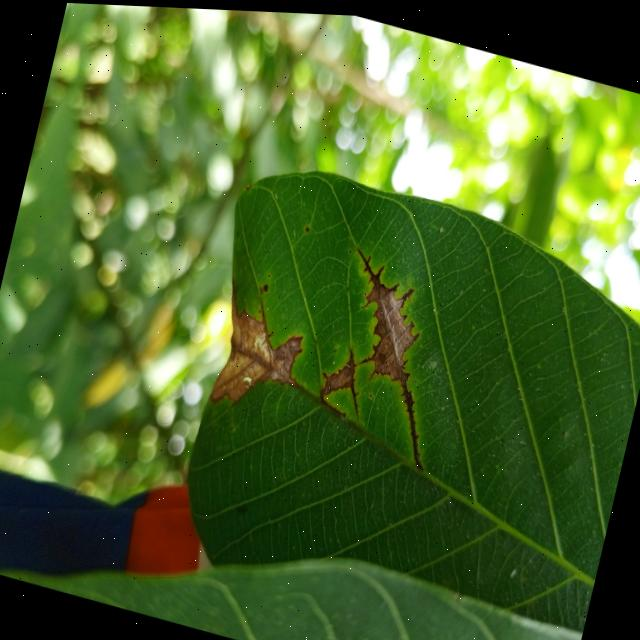Colletotrichum: (262, 281, 268, 289), (304, 223, 308, 230)
Corynespora: (311, 241, 467, 468), (381, 369, 442, 467), (332, 341, 374, 419), (350, 244, 386, 283), (314, 383, 350, 415)
Leaf-Blight: (206, 290, 310, 422), (350, 278, 422, 380), (322, 357, 352, 398)
